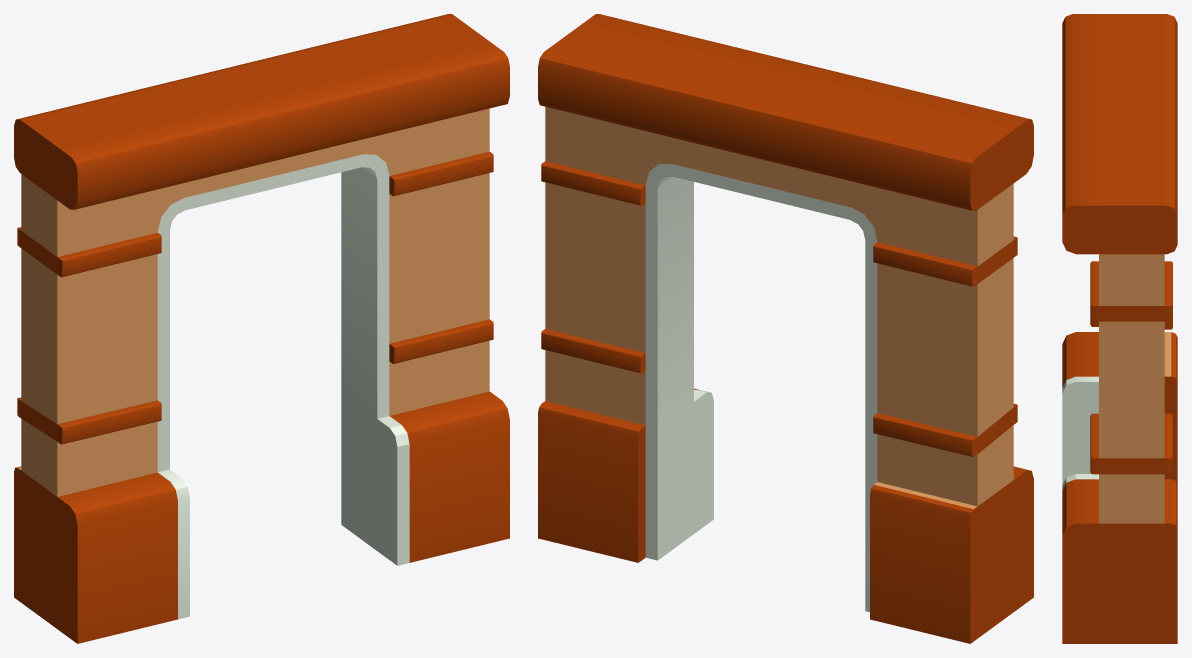
File: New_DoorWalls001.fbx
The picture shows the model from 3 angles, left to right: view 1: azimuth 30°, elevation 25°; view 2: azimuth 150°, elevation 25°; view 3: azimuth 270°, elevation 25°; orthographic projection. The views are drawn at different scales.
Parts seen in each view (by area): view 1: Wall005.006; view 2: Wall005.006; view 3: Wall005.006.
Boxes of the visible parts, x1,y1,x2,y2 form: Wall005.006: [14, 14, 509, 643]; Wall005.006: [538, 14, 1033, 643]; Wall005.006: [1062, 14, 1177, 643].
Size of the model in its own units: 250 by 266 by 63.58.
1 material, 1 textured.
